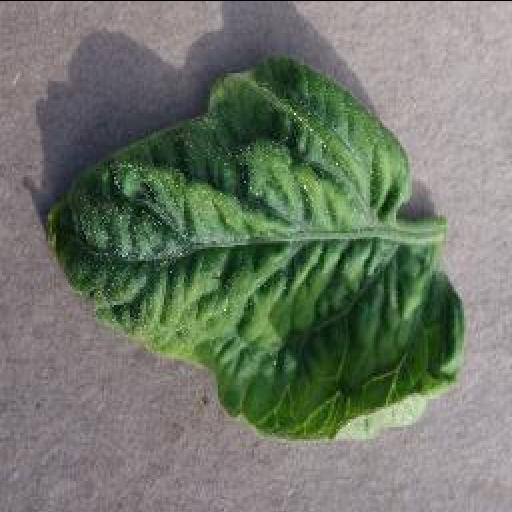disease_tomato: (40, 55, 468, 441)
